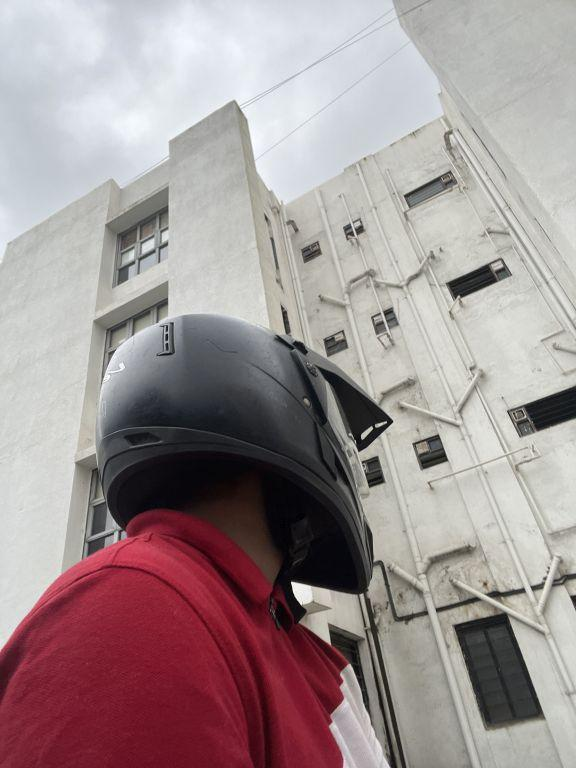helmet: (87, 304, 393, 611)
